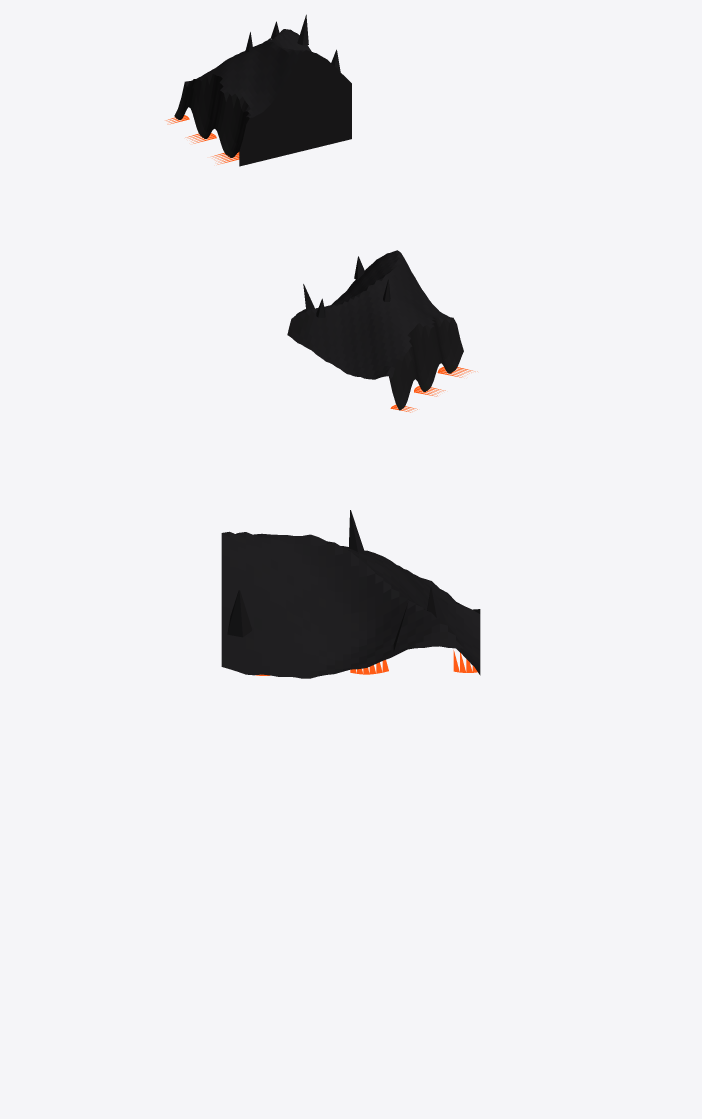
Rendered from chunk-4-7.glb.
3 renders of one model, top to bottom at view 1: azimuth 30°, elevation 25°; view 2: azimuth 150°, elevation 25°; view 3: azimuth 270°, elevation 25°, orthographic. The views are drawn at different scales.
Visible parts, largest first — view 1: Cliff_Rock, Mountain_Rock, Lava; view 2: Mountain_Rock, Cliff_Rock, Lava; view 3: Mountain_Rock.
Part boxes in pixels (bbox=[...]): Cliff_Rock: bbox=[178, 50, 351, 166]; Mountain_Rock: bbox=[185, 14, 340, 117]; Lava: bbox=[165, 115, 239, 164]; Mountain_Rock: bbox=[291, 250, 452, 379]; Cliff_Rock: bbox=[287, 310, 463, 407]; Lava: bbox=[390, 366, 477, 412]; Mountain_Rock: bbox=[221, 510, 480, 678].
Bounding box in the file's own units: 480 × 68.25 × 80.
